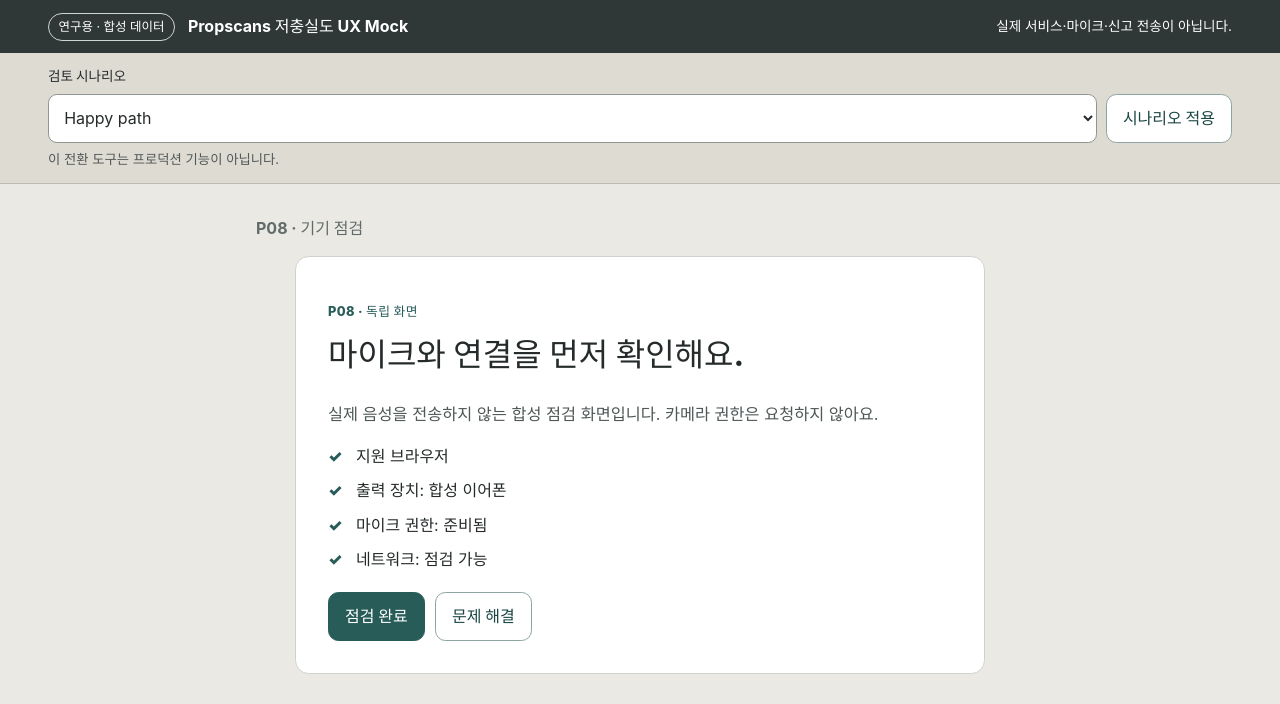
Propscans UX mock › keeps leave, block and report independent
Select "연결 약함" in the dropdown labelled "검토 시나리오" at (573, 118), box [48,94,1097,143]
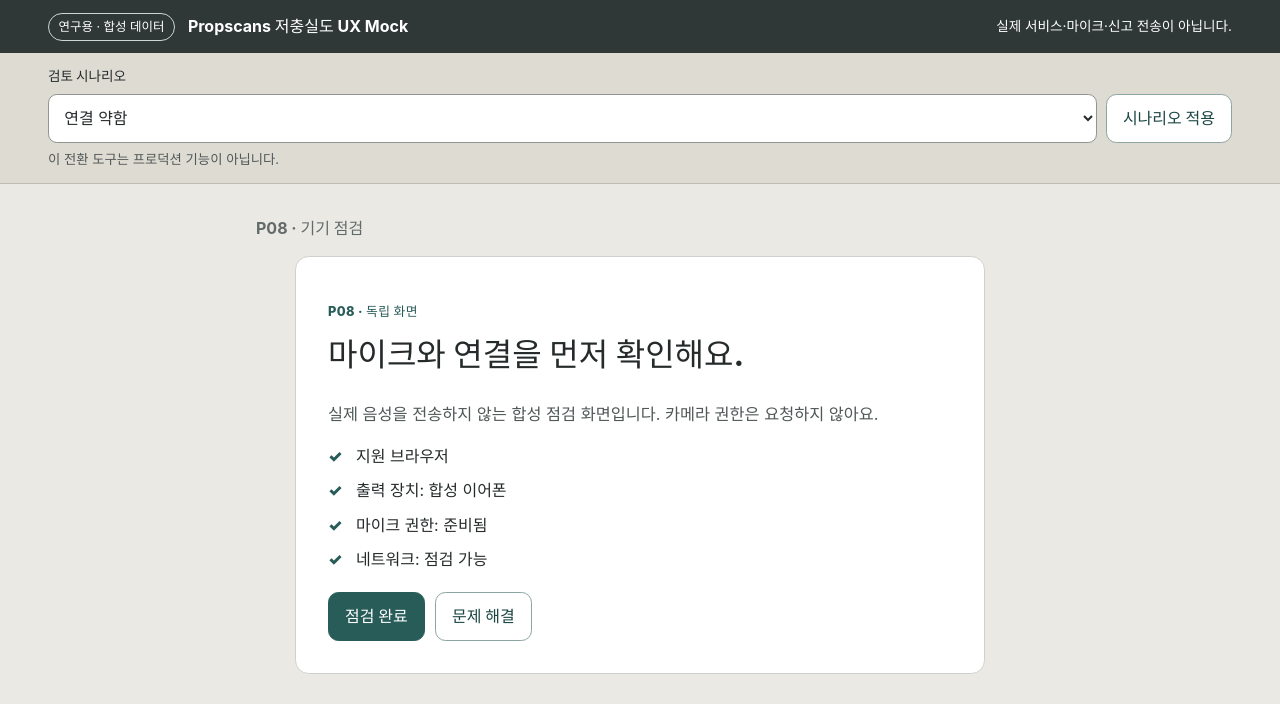
Click the button "시나리오 적용".
click(1169, 118)  # box [1106,94,1232,143]
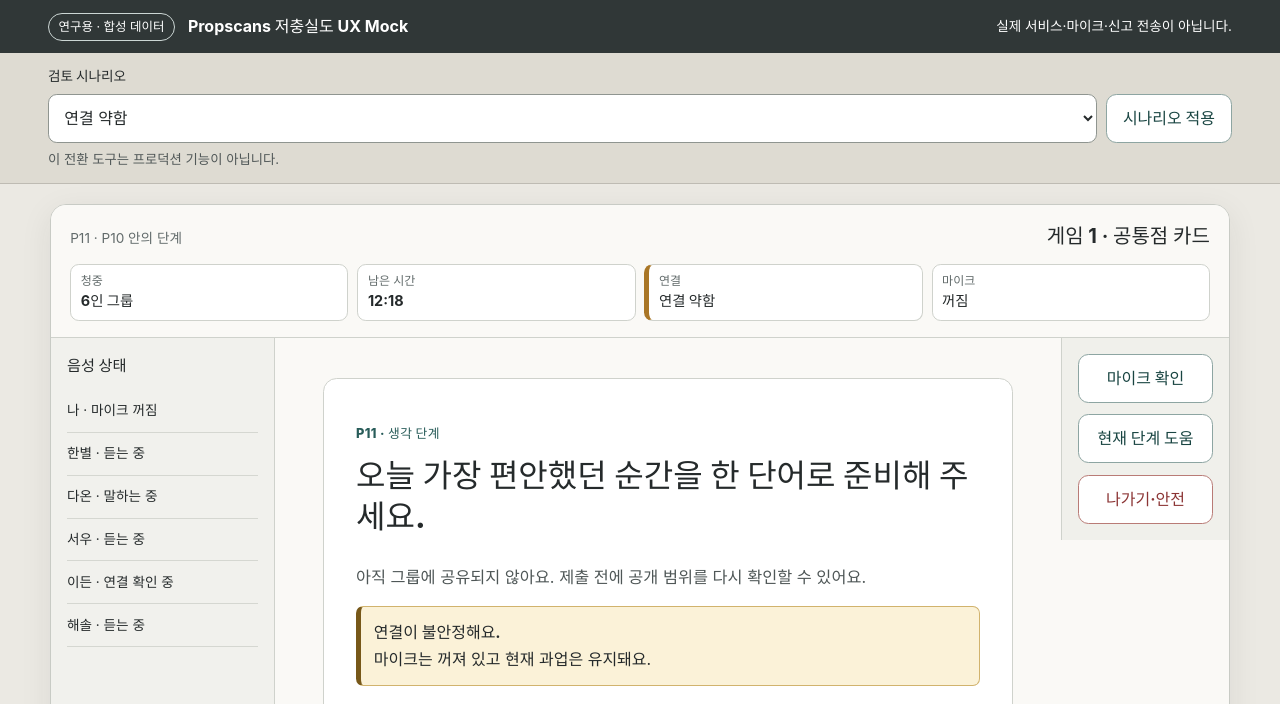
Click the button "나가기·안전".
click(1146, 499)  # box [1078,475,1213,524]
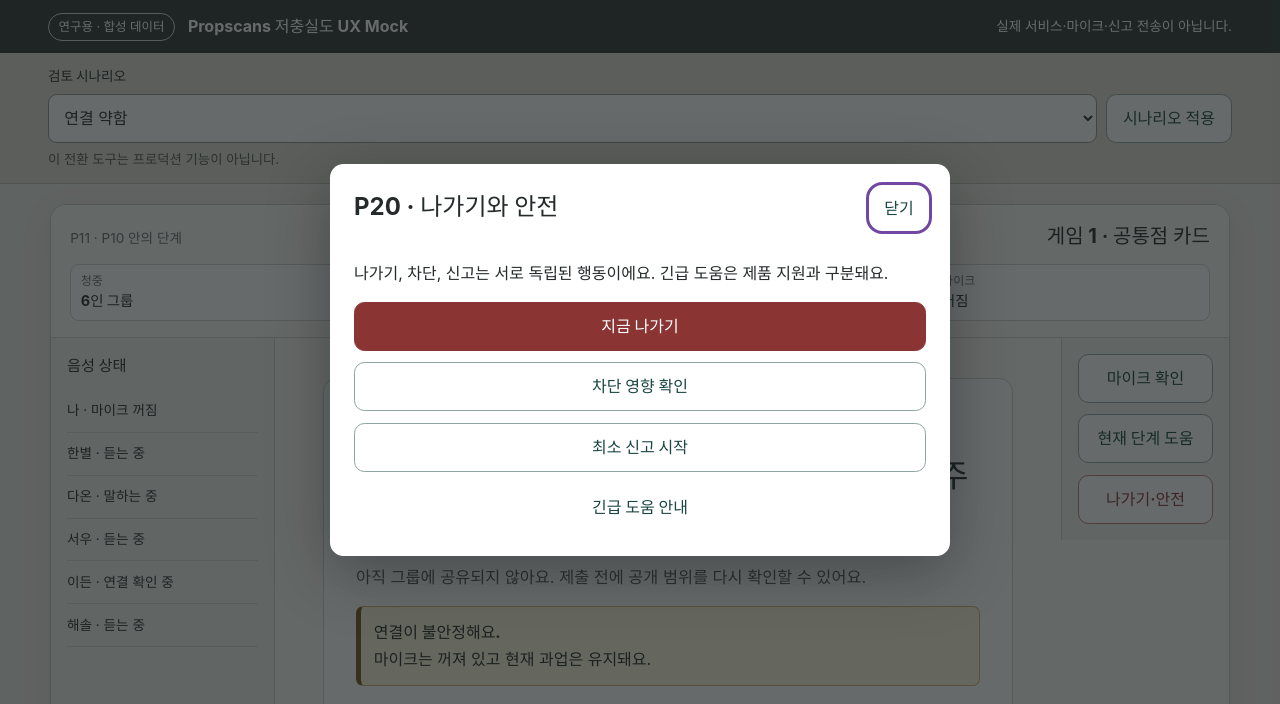
Expected: the button "지금 나가기" is shown
Expected: the button "차단 영향 확인" is shown, [354,362,926,411]
Expected: the button "최소 신고 시작" is shown, [354,422,926,472]
Click the button "지금 나가기".
click(640, 326)  # box [354,302,926,351]
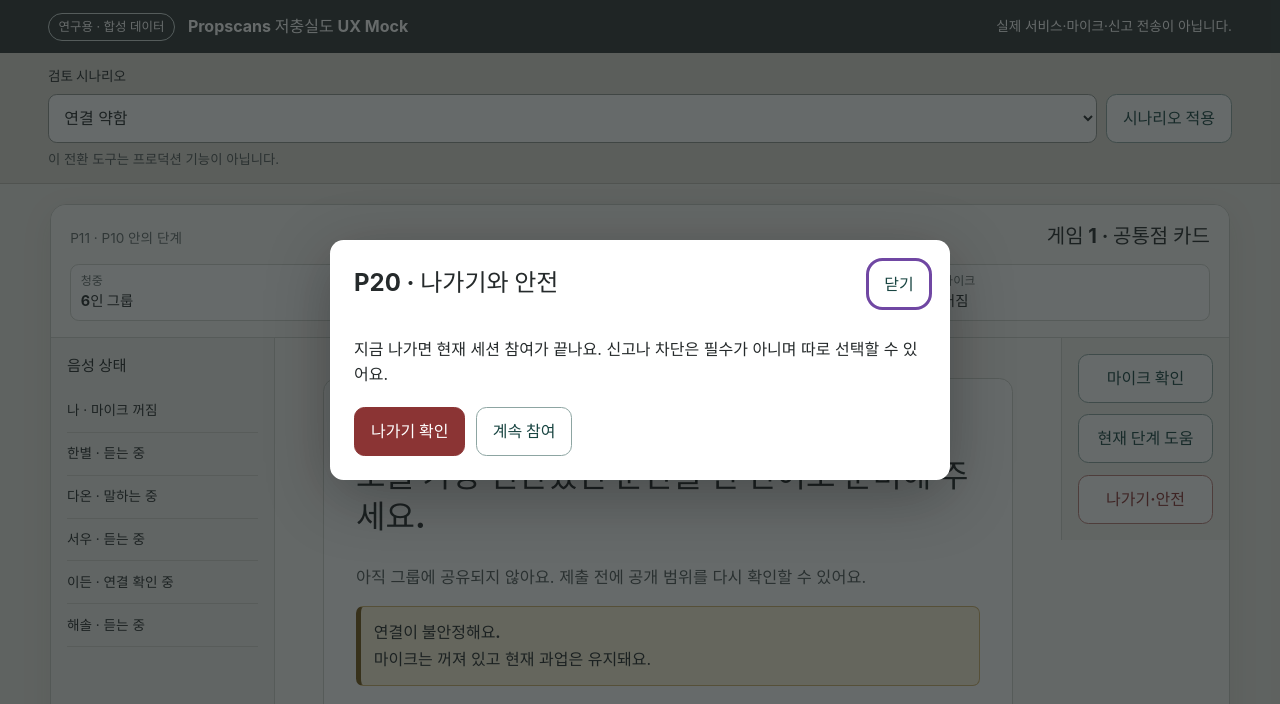
Click the button "나가기 확인".
click(410, 431)  # box [354,407,465,456]
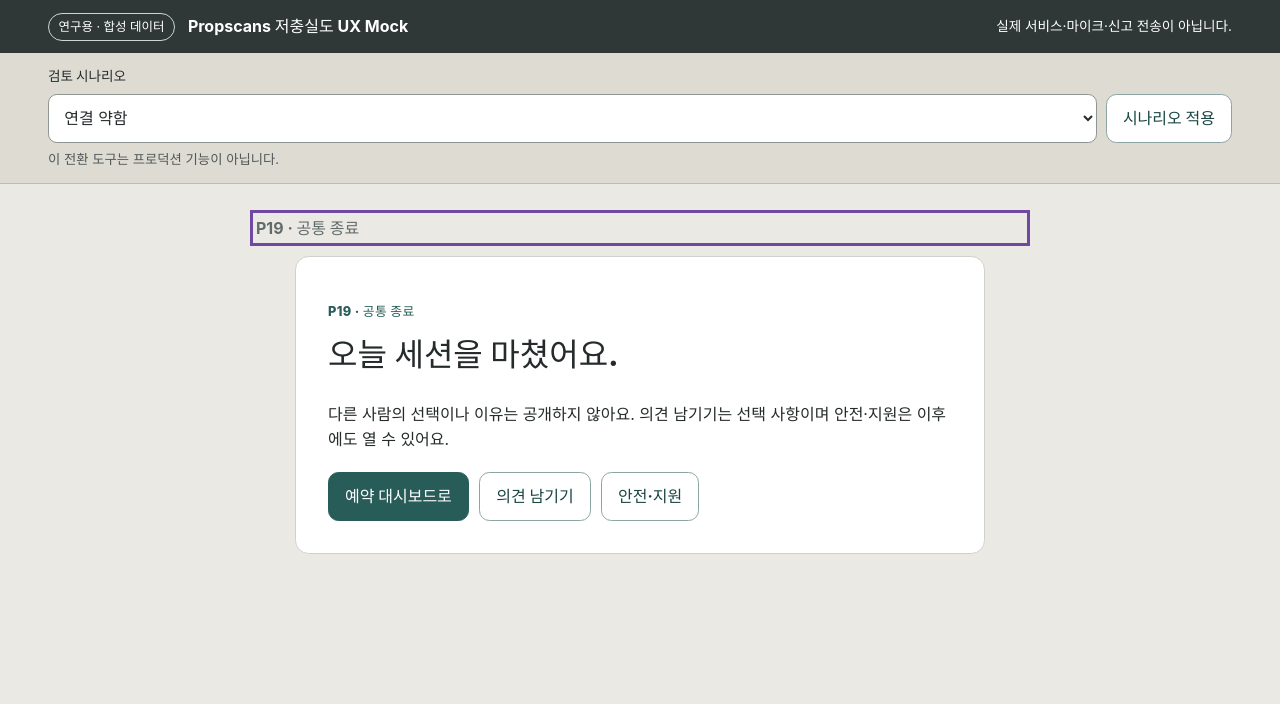
Expected: the heading "오늘 세션을 마쳤어요." is shown, [328,335,619,374]
